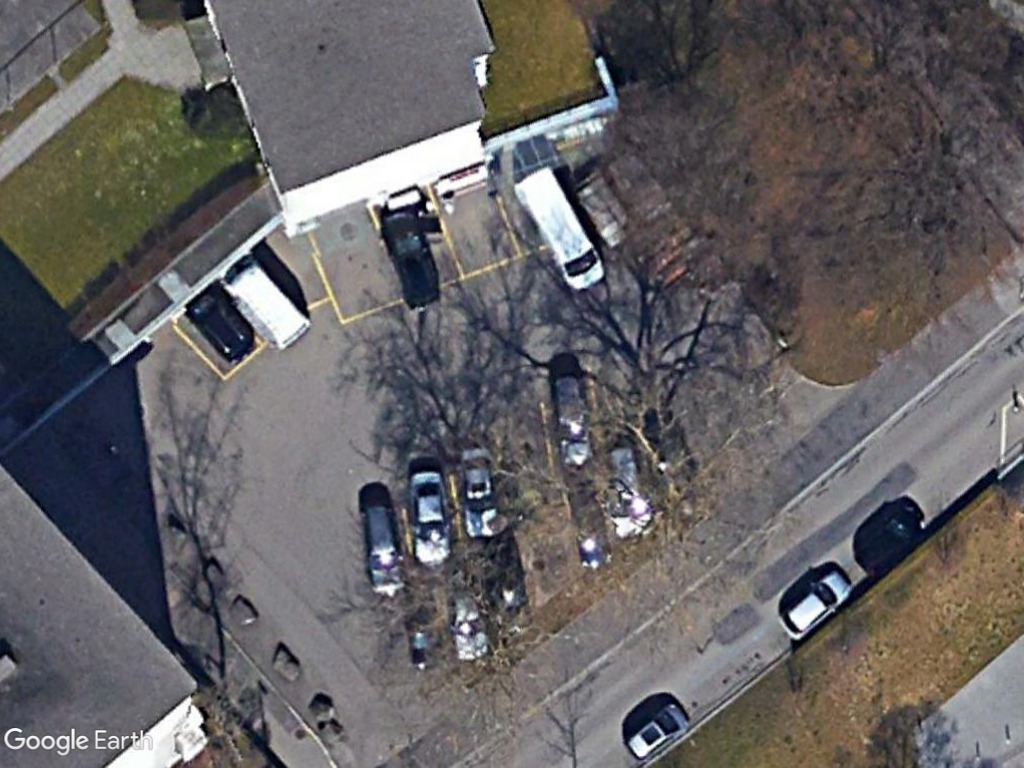car: (776, 569, 853, 641), (408, 467, 454, 569), (623, 700, 691, 763)
van: (513, 166, 607, 294)
